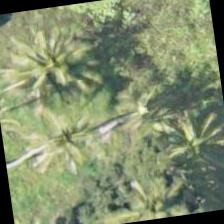Kelapa_Sawit: (11, 94, 113, 196), (5, 15, 107, 116), (142, 92, 223, 194), (108, 164, 205, 224)
